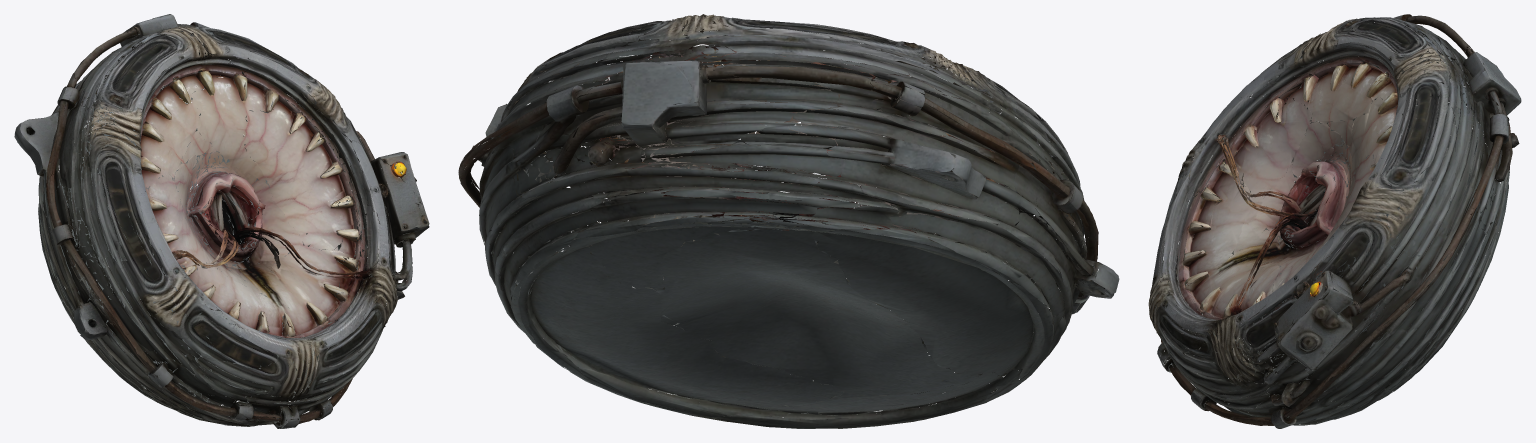
The model's file is relay_acoustic_diaphragm.glb.
3 views of the same model, side by side, from view 1: azimuth 30°, elevation 25°; view 2: azimuth 150°, elevation 25°; view 3: azimuth 270°, elevation 25° (orthographic). The views are drawn at different scales.
Visible parts, largest first — view 1: node_0; view 2: node_0; view 3: node_0.
Part boxes in pixels (bbox=[...]): node_0: bbox=[14, 14, 429, 428]; node_0: bbox=[458, 14, 1119, 428]; node_0: bbox=[1148, 14, 1521, 428].
Bounding box in the file's own units: 1.08 × 0.9075 × 0.8895.
1 material, 1 textured.
